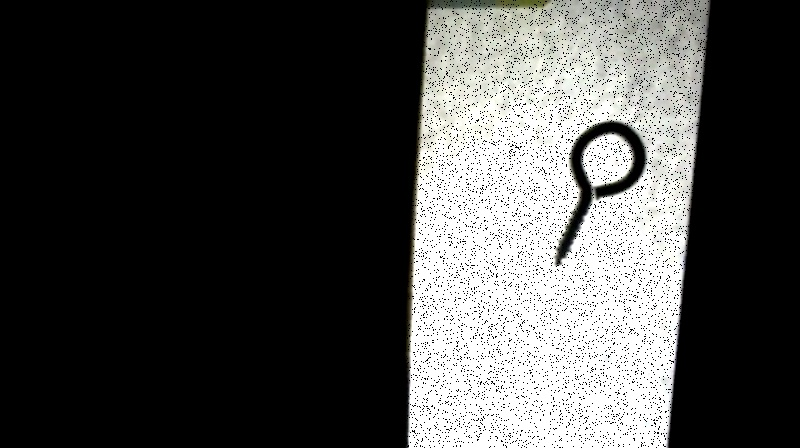O001: (550, 117, 651, 269)
